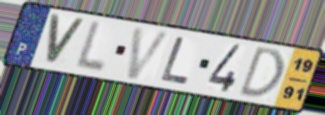4: (206, 43, 244, 94)
D: (235, 45, 285, 100)
L: (72, 19, 109, 76), (158, 34, 192, 86)
V: (124, 25, 174, 81), (44, 12, 87, 67)
